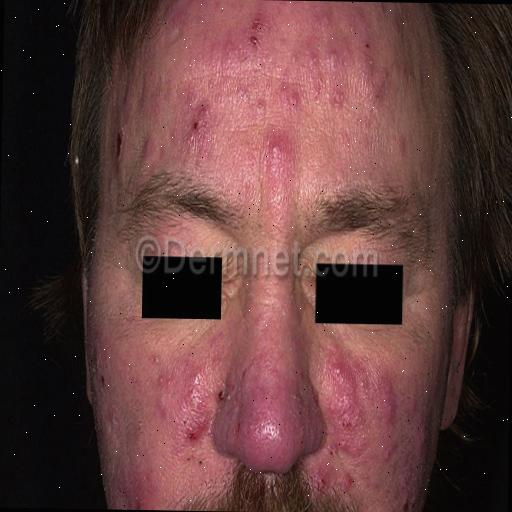Skin_Lesion: (328, 352, 361, 452), (181, 371, 244, 417), (178, 95, 214, 149), (242, 2, 266, 60), (364, 68, 394, 114), (385, 474, 419, 512), (209, 30, 237, 73), (264, 132, 292, 170), (104, 132, 128, 176), (306, 454, 332, 494), (280, 72, 303, 110), (180, 421, 206, 454), (319, 44, 348, 72), (381, 387, 401, 426), (152, 387, 174, 420), (139, 129, 157, 167), (288, 388, 310, 416), (392, 128, 412, 158), (420, 418, 434, 458), (330, 84, 348, 114), (131, 481, 148, 510), (254, 94, 270, 121), (393, 2, 411, 26), (382, 442, 396, 466), (230, 416, 246, 435), (372, 2, 392, 17), (98, 372, 110, 394), (343, 472, 355, 493), (360, 35, 374, 52), (320, 7, 330, 29)
